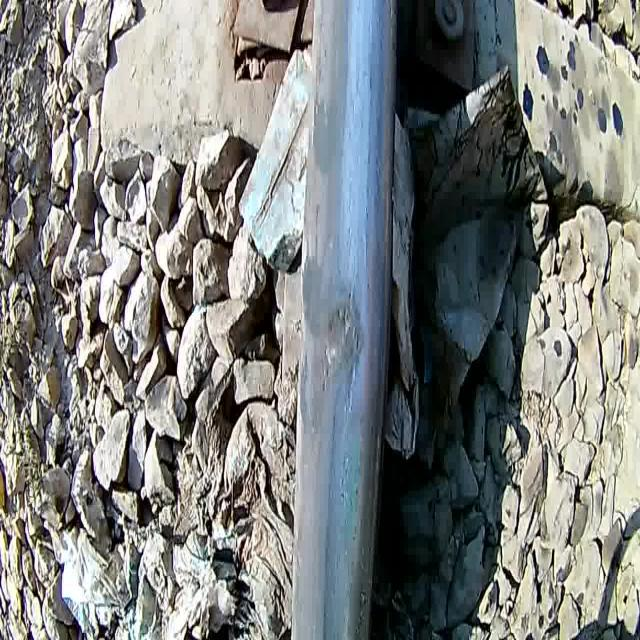Squats: (314, 278, 369, 414)
